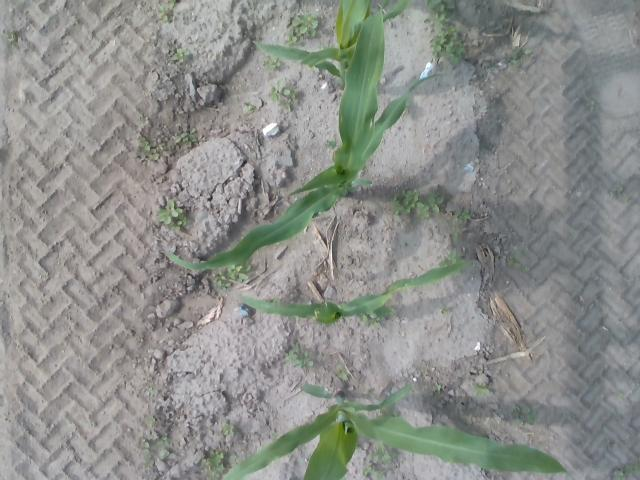Maize: (158, 2, 448, 270), (221, 382, 574, 480), (236, 258, 473, 324), (252, 1, 411, 83)
Weeds: (422, 0, 465, 65), (392, 186, 444, 220), (284, 12, 319, 48), (267, 78, 300, 114), (212, 264, 255, 291), (140, 433, 170, 470), (156, 199, 188, 231), (282, 340, 314, 370), (506, 402, 542, 428), (200, 447, 224, 480), (138, 133, 166, 160), (370, 442, 398, 464), (172, 127, 198, 149), (611, 462, 640, 480), (508, 44, 531, 66), (361, 462, 388, 480), (438, 246, 460, 265), (360, 312, 382, 330), (170, 46, 192, 62), (155, 4, 172, 23), (332, 363, 350, 380), (3, 28, 18, 47), (474, 382, 491, 398), (456, 206, 473, 222), (507, 250, 522, 266), (220, 422, 237, 436), (264, 57, 282, 69), (322, 139, 338, 150), (452, 226, 464, 240), (366, 387, 378, 400), (439, 304, 452, 316), (138, 111, 150, 124), (146, 415, 158, 427), (614, 182, 624, 196), (242, 102, 255, 112), (145, 385, 156, 396), (432, 381, 443, 392), (625, 193, 635, 203), (166, 0, 178, 8), (230, 451, 238, 462), (586, 99, 594, 109), (269, 298, 281, 304), (271, 431, 281, 438), (522, 265, 530, 272), (618, 390, 624, 397), (477, 371, 482, 376)
